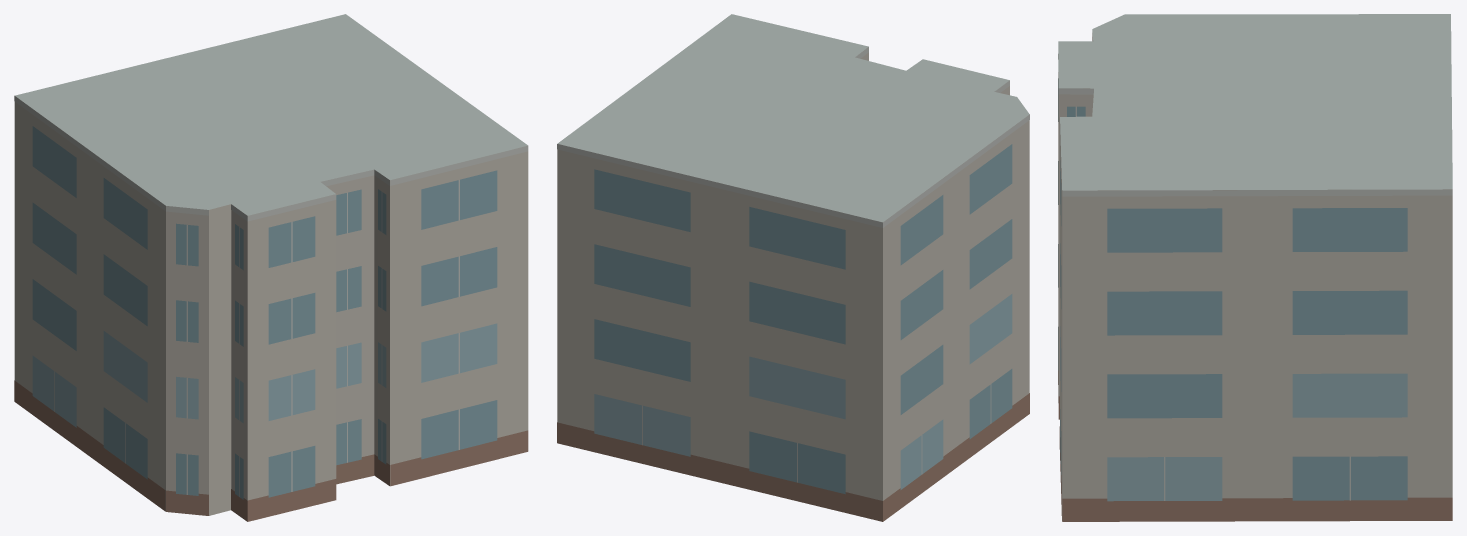
File: survey-upis-33015398.glb
3 views of the same model, side by side, from view 1: azimuth 30°, elevation 25°; view 2: azimuth 150°, elevation 25°; view 3: azimuth 270°, elevation 25° (orthographic). The views are drawn at different scales.
Visible parts, largest first — view 1: survey-upis-33015398.tmp; view 2: survey-upis-33015398.tmp; view 3: survey-upis-33015398.tmp.
Boxes of the visible parts, x1=… form: survey-upis-33015398.tmp: x1=14, y1=14, x2=528, y2=521; survey-upis-33015398.tmp: x1=557, y1=14, x2=1029, y2=521; survey-upis-33015398.tmp: x1=1058, y1=14, x2=1452, y2=521.
Bounding box in the file's own units: 14.87 × 13 × 14.04.
